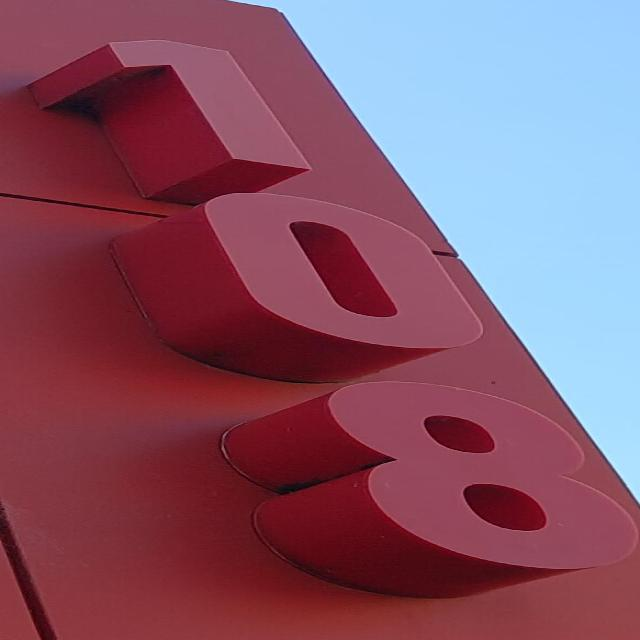character: (291, 373, 640, 577), (181, 187, 497, 355), (82, 29, 332, 177)
